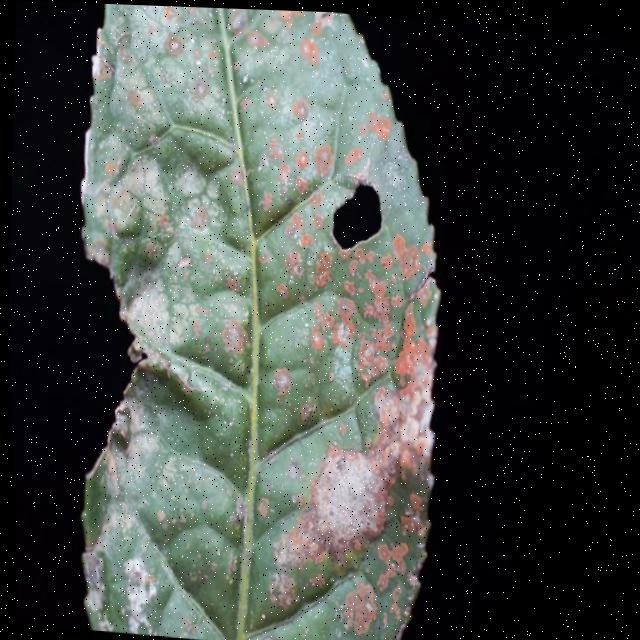Tea red rust: (68, 7, 452, 638)
